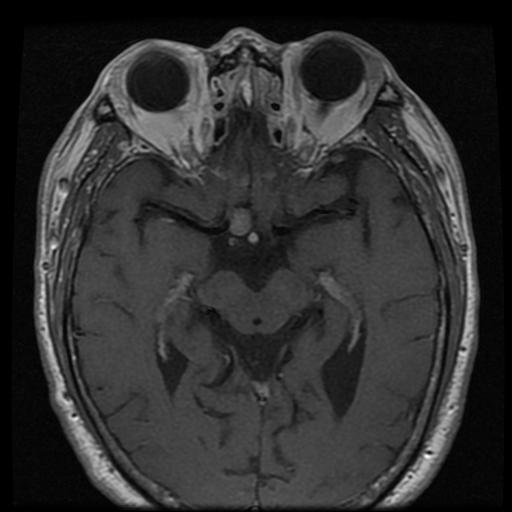Pituirity_tumour: (229, 208, 251, 235)
